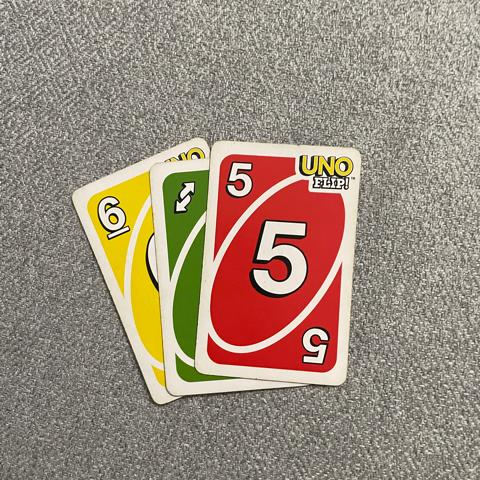lgreenrevers-20: (162, 171, 204, 227)
lred-5: (217, 151, 264, 205)
lyellow-6: (93, 188, 138, 242)
